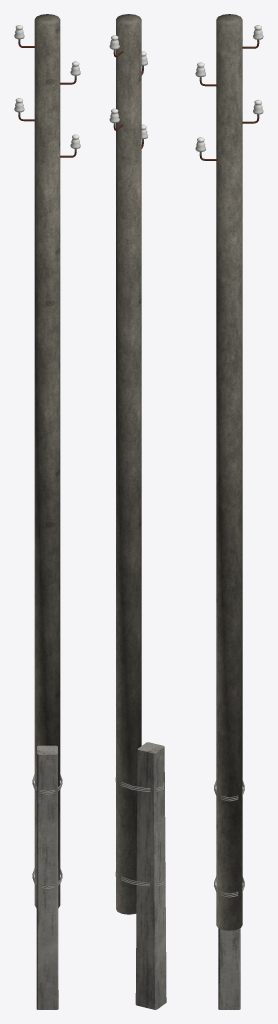
The model's file is pole_wood_web.glb.
The picture shows the model from 3 angles, left to right: view 1: azimuth 90°, elevation 25°; view 2: azimuth 150°, elevation 25°; view 3: azimuth 270°, elevation 25°; orthographic projection. The views are drawn at different scales.
Visible parts, largest first — view 1: PoleWood_Mesh; view 2: PoleWood_Mesh; view 3: PoleWood_Mesh.
Boxes of the visible parts, x1,y1,x2,y2 form: PoleWood_Mesh: [14, 14, 80, 1009]; PoleWood_Mesh: [109, 14, 166, 1009]; PoleWood_Mesh: [195, 14, 263, 1009].
Size of the model in its own units: 0.4474 by 8.8 by 0.5457.
Materials: 5 (4 with a texture image).
